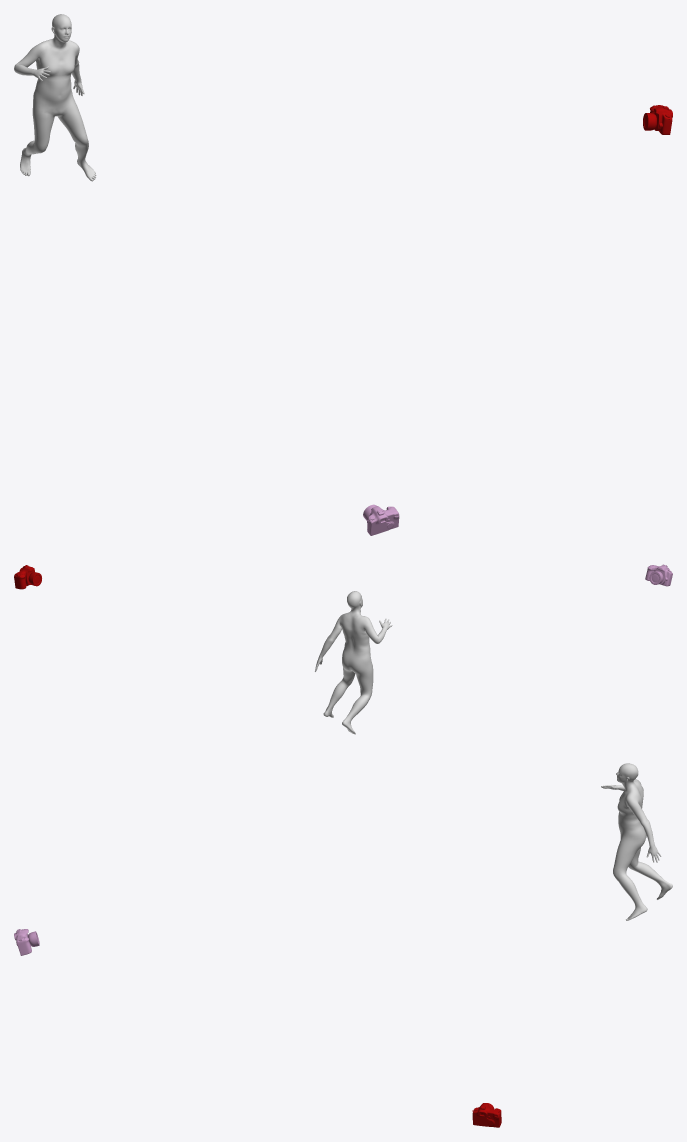
File: jordan.glb
3 renders of one model, top to bottom at view 1: azimuth 30°, elevation 25°; view 2: azimuth 150°, elevation 25°; view 3: azimuth 270°, elevation 25°, orthographic. The views are drawn at different scales.
Visible parts, largest first — view 1: world, 10124_SLR_Camera_SG_V1_Iteration2.obj:2VED5ONFWUTP; view 2: world, 10124_SLR_Camera_SG_V1_Iteration2.obj, 10124_SLR_Camera_SG_V1_Iteration2.obj:2VED5ONFWUTP; view 3: world, 10124_SLR_Camera_SG_V1_Iteration2.obj.
Boxes of the visible parts, x1,y1,x2,y2 form: world: (14,14,96,181); 10124_SLR_Camera_SG_V1_Iteration2.obj:2VED5ONFWUTP: (363,504,399,535); world: (315,591,392,734); 10124_SLR_Camera_SG_V1_Iteration2.obj: (14,565,41,589); 10124_SLR_Camera_SG_V1_Iteration2.obj:2VED5ONFWUTP: (645,564,672,586); world: (601,763,672,920); 10124_SLR_Camera_SG_V1_Iteration2.obj: (472,1103,501,1127).
Bounding box in the file's own units: 5.85 × 2.35 × 6.85.
